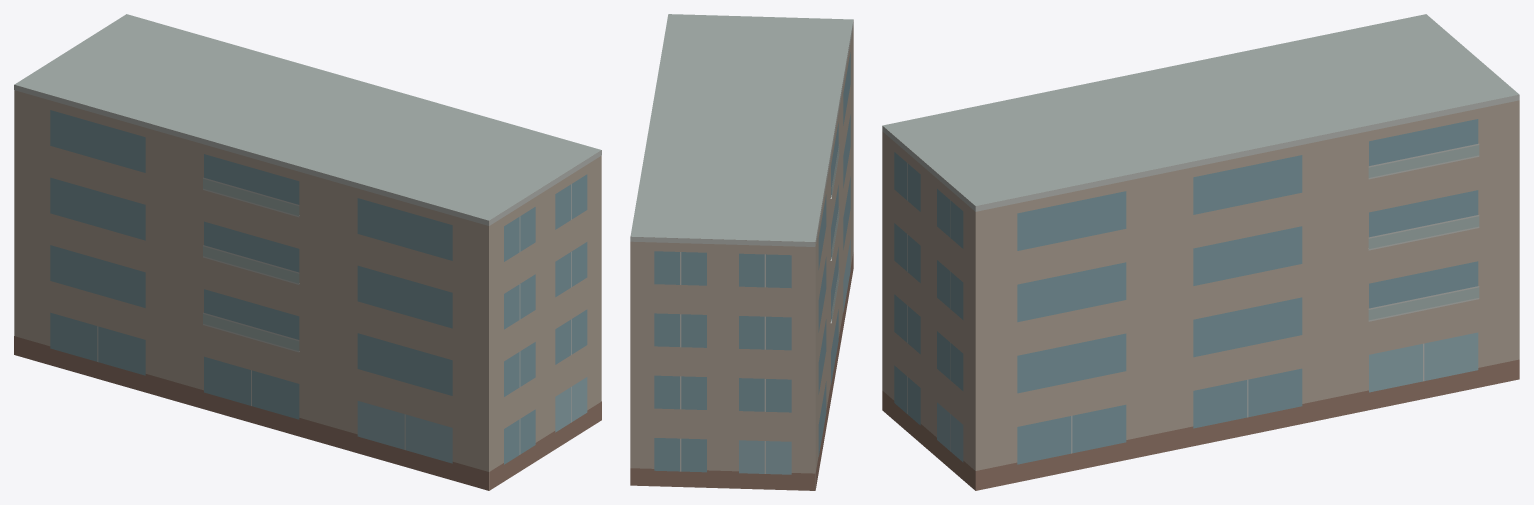
File: survey-upis-32940691.glb
3 renders of one model, left to right at view 1: azimuth 30°, elevation 25°; view 2: azimuth 150°, elevation 25°; view 3: azimuth 270°, elevation 25°, orthographic. The views are drawn at different scales.
Parts seen in each view (by area): view 1: survey-upis-32940691.tmp; view 2: survey-upis-32940691.tmp; view 3: survey-upis-32940691.tmp.
Boxes of the visible parts, x1,y1,x2,y2 form: survey-upis-32940691.tmp: [14, 14, 601, 490]; survey-upis-32940691.tmp: [630, 14, 853, 490]; survey-upis-32940691.tmp: [882, 14, 1519, 490].
Bounding box in the file's own units: 17.67 × 12.2 × 24.76.
